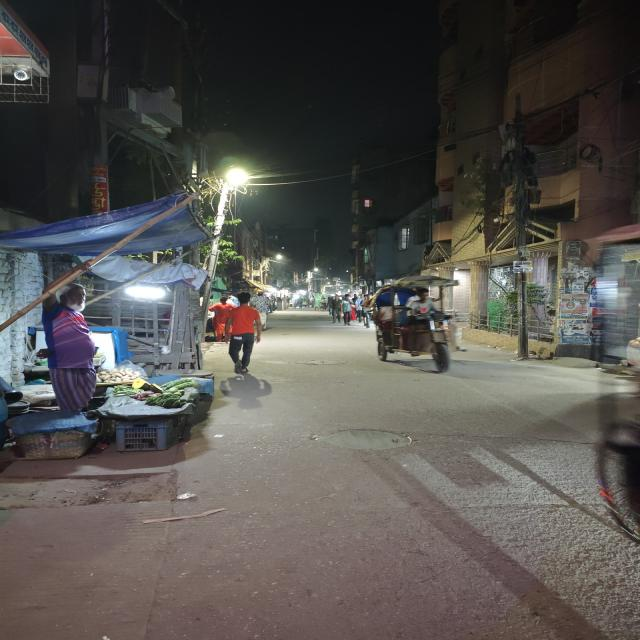pedestrian: (214, 290, 265, 378), (325, 295, 343, 323)
rickshaw: (369, 284, 469, 376)
